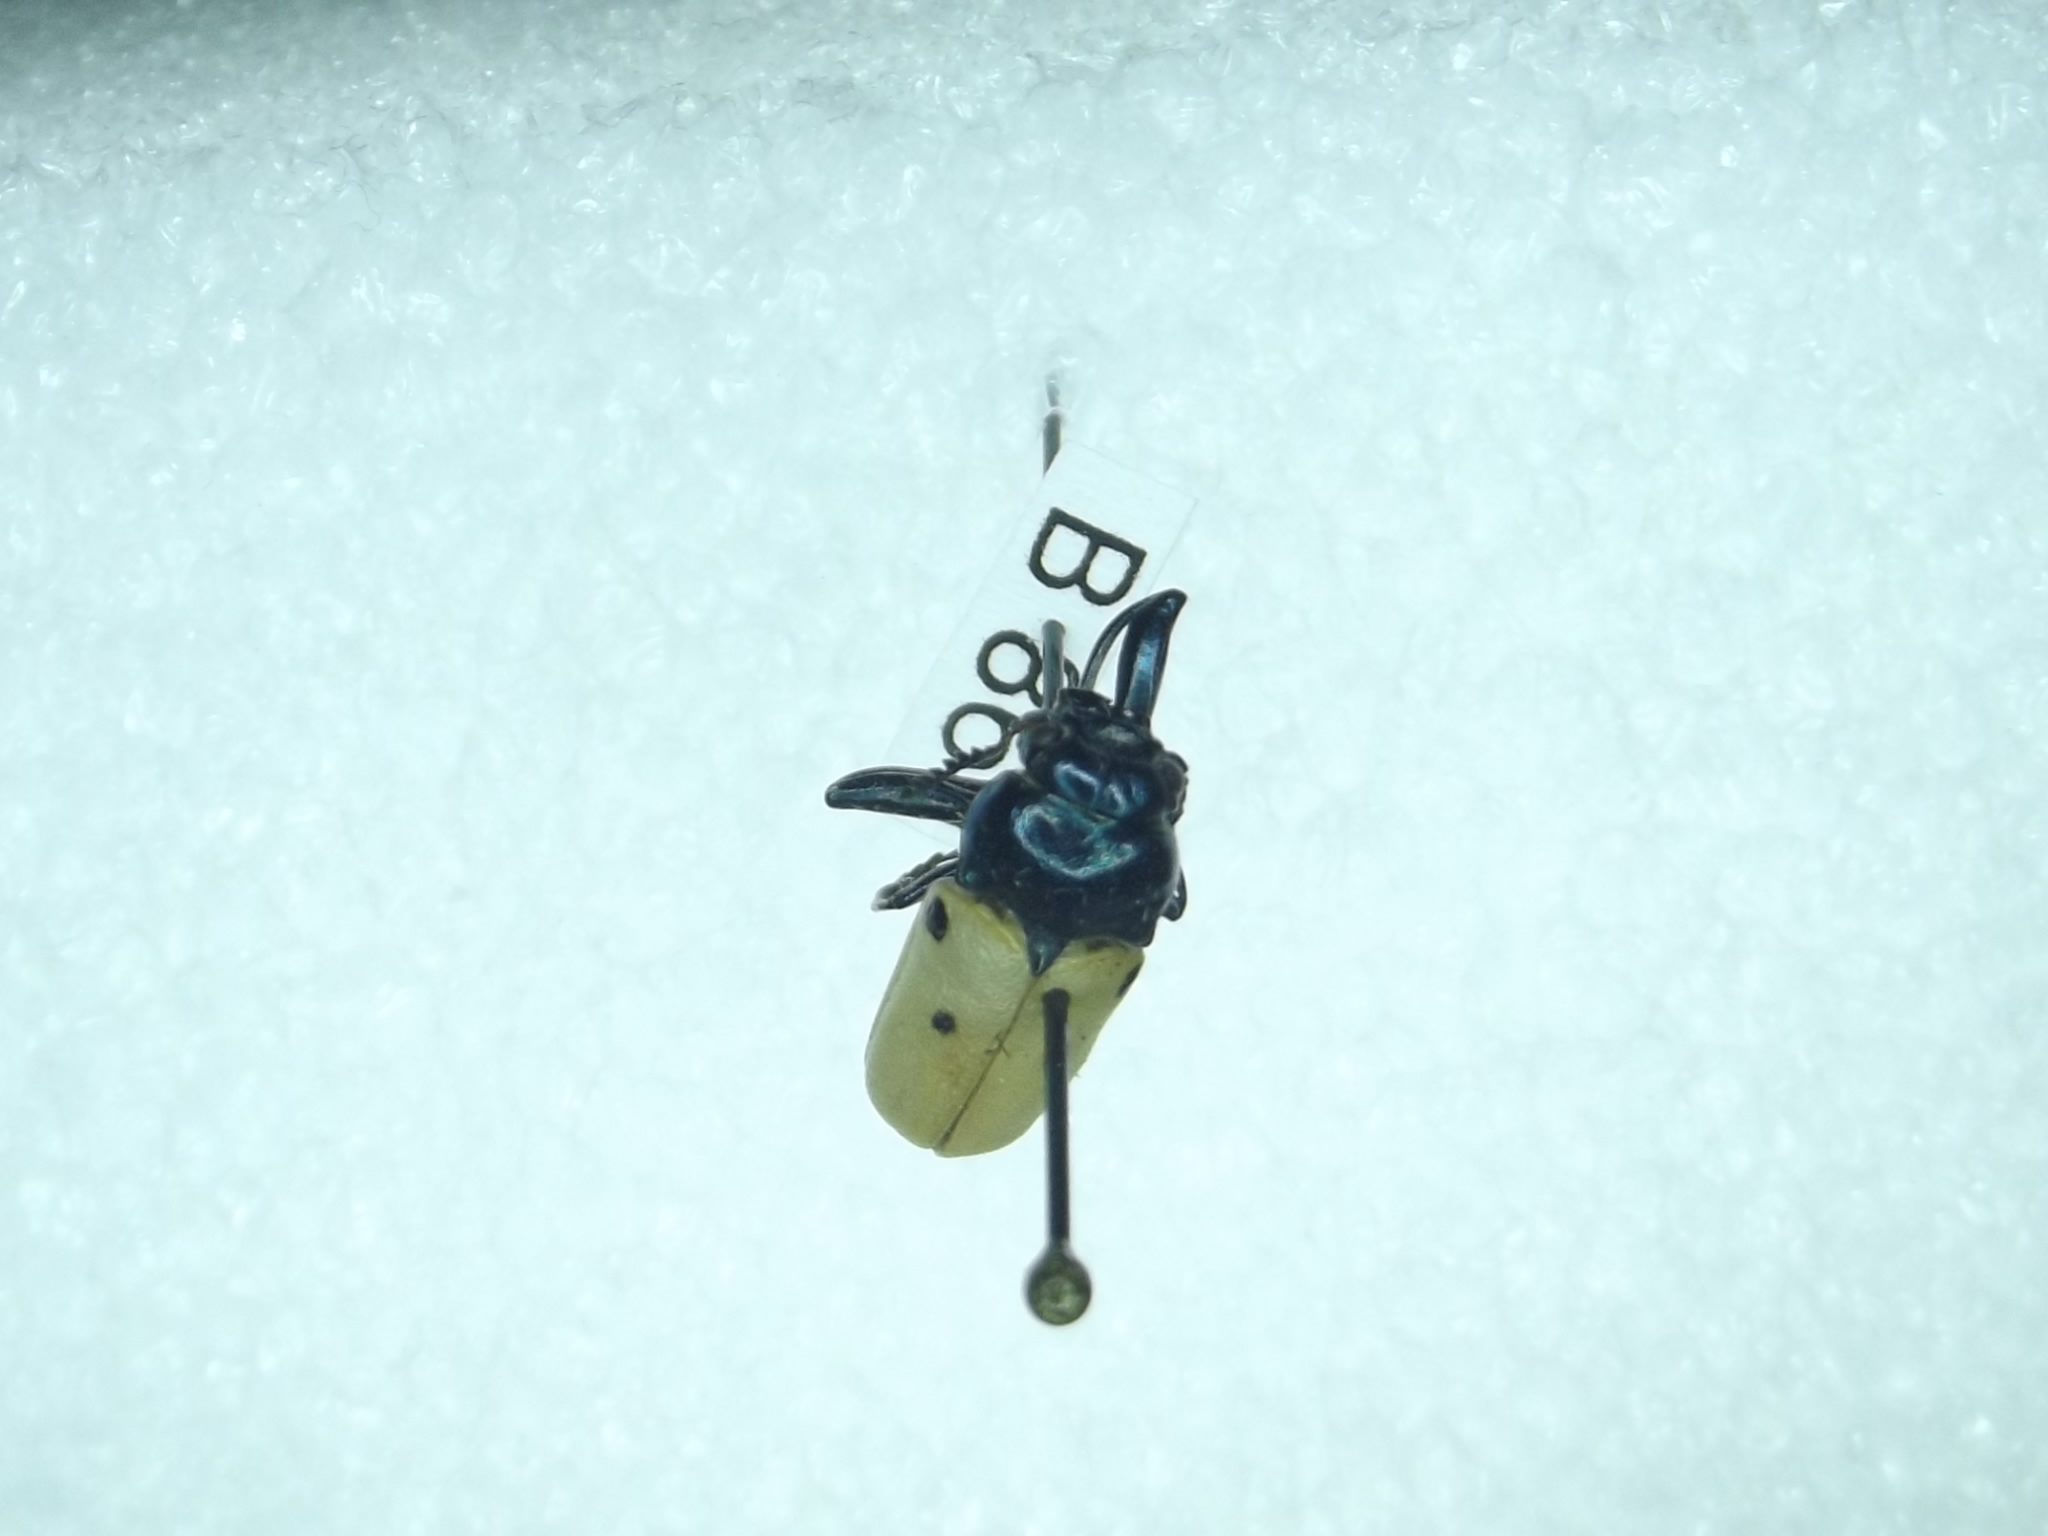Labidostomis_maculipennis: (810, 582, 1229, 1167)
